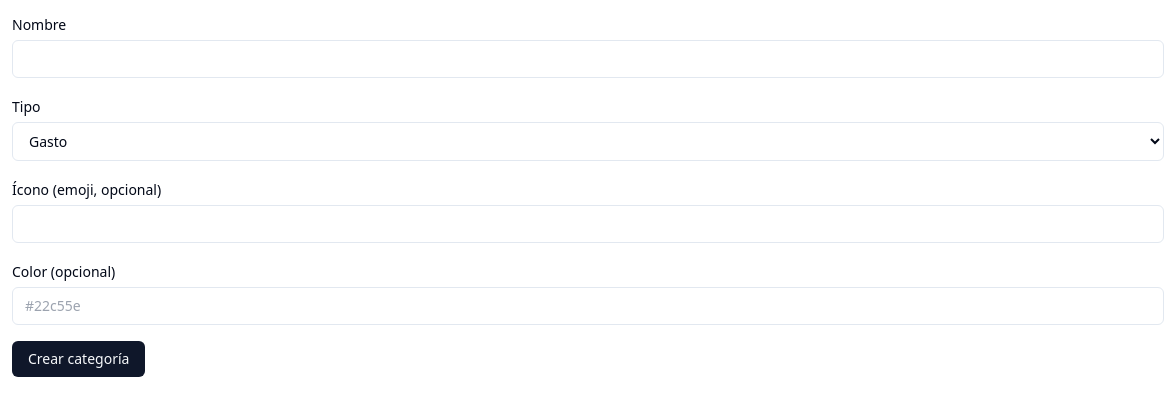
CategoryForm › requiere el nombre antes de enviar
The image size is (1176, 418).
Click the button "Crear categoría" at (79, 359), box 12,341 -> 145,377
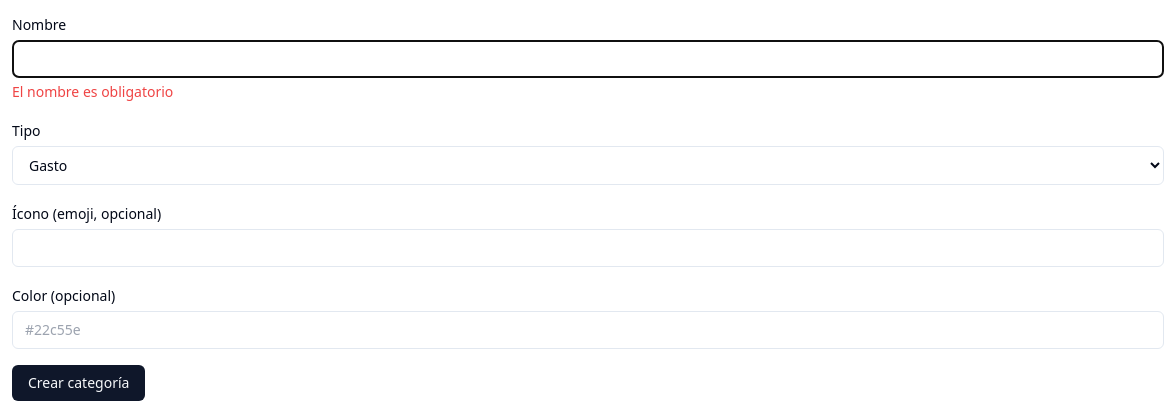
Expected: the text "El nombre es obligatorio" is shown, 12,82 -> 173,101
